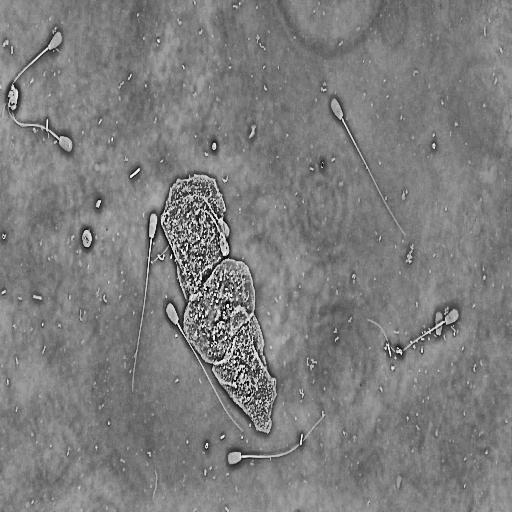dirt-particles: (159, 169, 280, 439), (5, 83, 20, 112), (79, 225, 94, 251)
loose-head: (433, 307, 445, 338)
normal: (329, 95, 410, 245), (165, 300, 247, 437), (225, 408, 327, 467), (1, 27, 64, 120), (130, 209, 159, 397), (364, 305, 461, 357), (7, 110, 74, 156)
